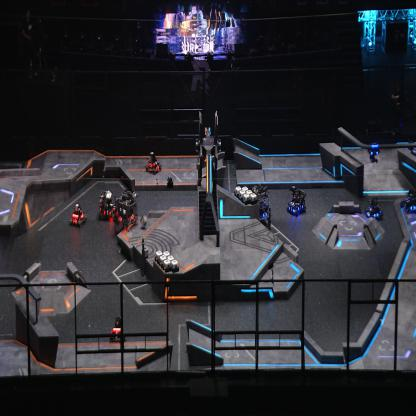car: (246, 183, 271, 226), (113, 189, 139, 229), (286, 186, 307, 217), (98, 188, 118, 220), (108, 315, 126, 344), (69, 203, 88, 229), (365, 196, 383, 221), (145, 151, 162, 176), (404, 188, 416, 214)
